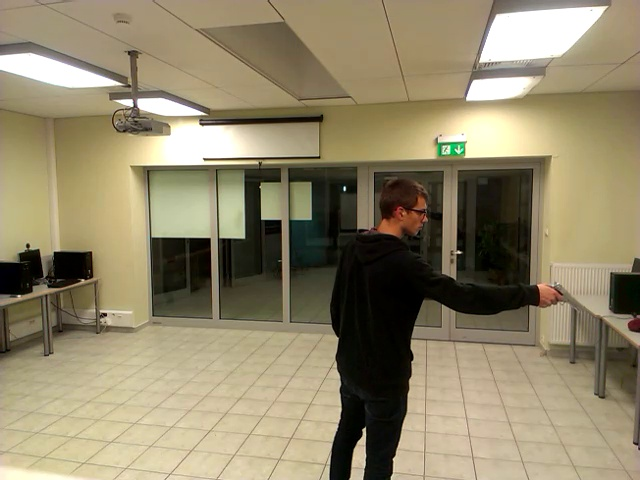gun: (545, 263, 592, 325)
